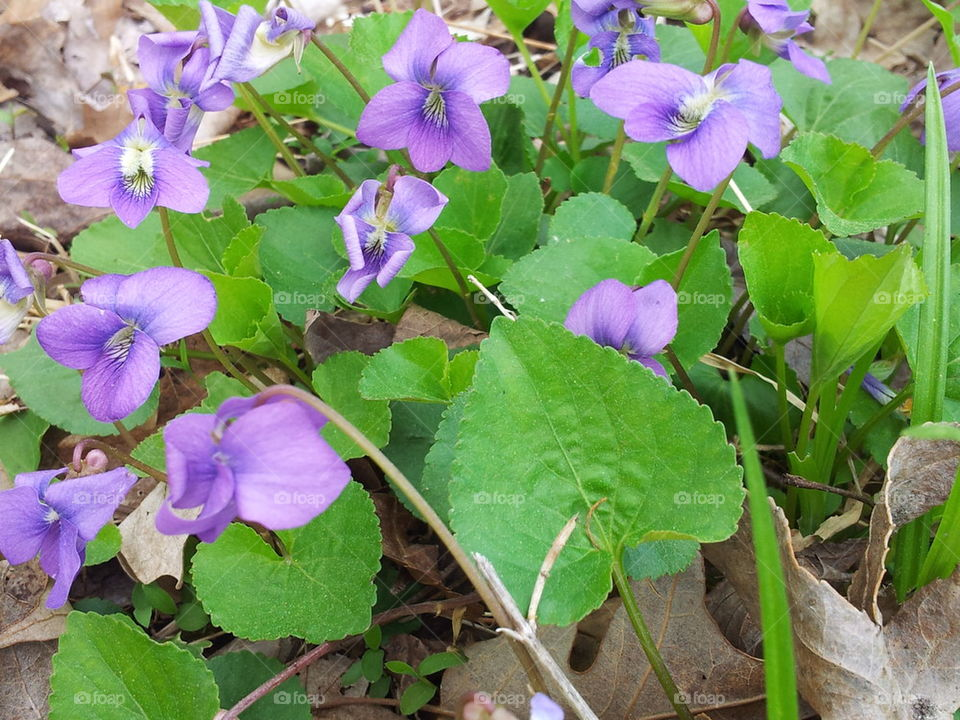violet: (592, 47, 795, 187), (144, 404, 358, 535), (37, 275, 218, 421), (347, 9, 496, 174), (52, 102, 216, 249), (133, 14, 333, 112), (1, 463, 142, 601), (327, 165, 455, 292), (566, 270, 693, 389)
